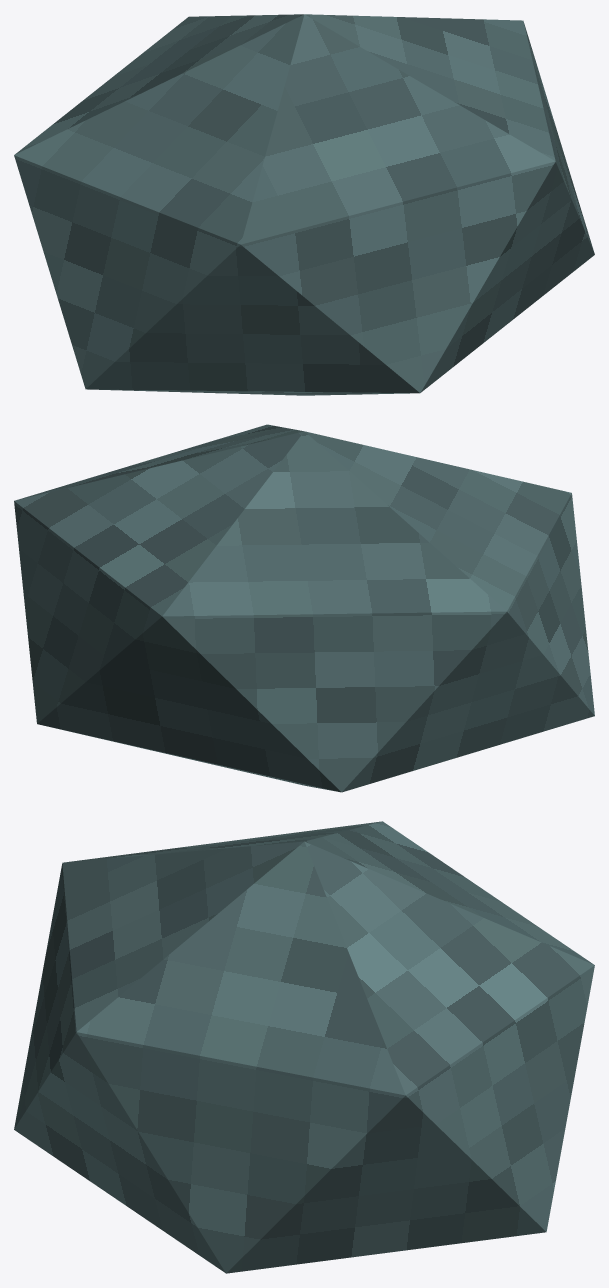
The model's file is rock_03.glb.
3 views of the same model, one above another, from view 1: azimuth 30°, elevation 25°; view 2: azimuth 150°, elevation 25°; view 3: azimuth 270°, elevation 25° (orthographic). The views are drawn at different scales.
Visible parts, largest first — view 1: WeatheredStone; view 2: WeatheredStone; view 3: WeatheredStone.
Boxes of the visible parts, bbox=[...] form: WeatheredStone: bbox=[14, 14, 594, 395]; WeatheredStone: bbox=[14, 424, 594, 792]; WeatheredStone: bbox=[14, 821, 594, 1273].
Bounding box in the file's own units: 1.84 × 1.26 × 1.61.
Materials: 1 (1 with a texture image).
